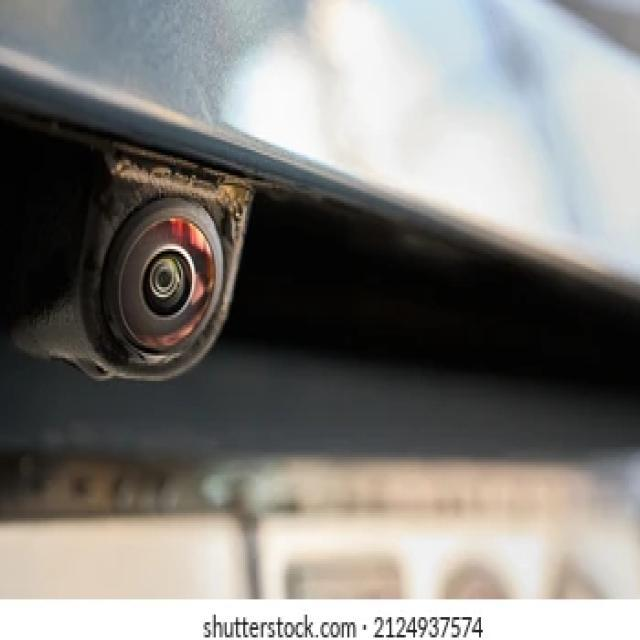hidden camera: (143, 246, 196, 320)
